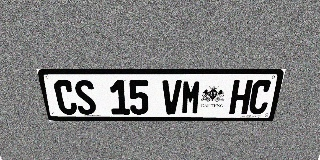1: (108, 80, 130, 115)
5: (129, 80, 149, 114)
C: (247, 80, 273, 114), (53, 80, 78, 115)
H: (229, 80, 253, 114)
M: (181, 80, 202, 114)
S: (73, 80, 97, 115)
V: (162, 80, 182, 114)
